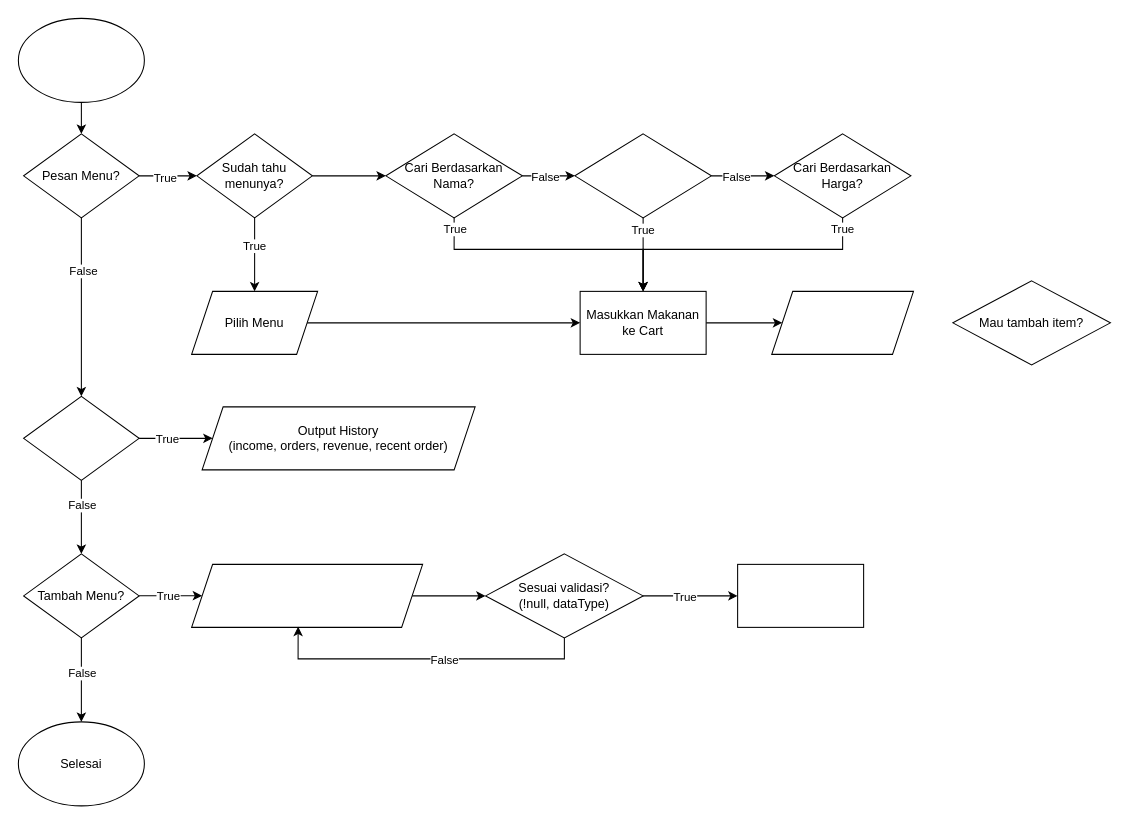
The diagram is 1129 pixels wide and 824 high, and some of its shapes have lost their labels. The centre of each missing label's shape, as x and y in pixels:
Cari Berdasarkan Kategori?: (x=642, y=175)
Input Data (nama, image, price, category): (x=307, y=595)
Input Jumlah untuk tiap item: (x=842, y=322)
Lihat History?: (x=81, y=437)
Masukkan data ke tabel t-menu: (x=800, y=595)
Mulai: (x=80, y=59)
